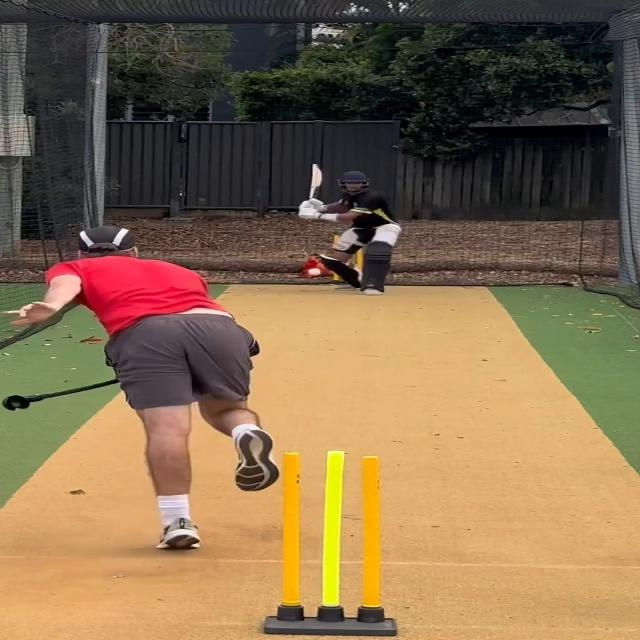ball: (306, 267, 325, 279)
stump: (262, 450, 398, 634)
